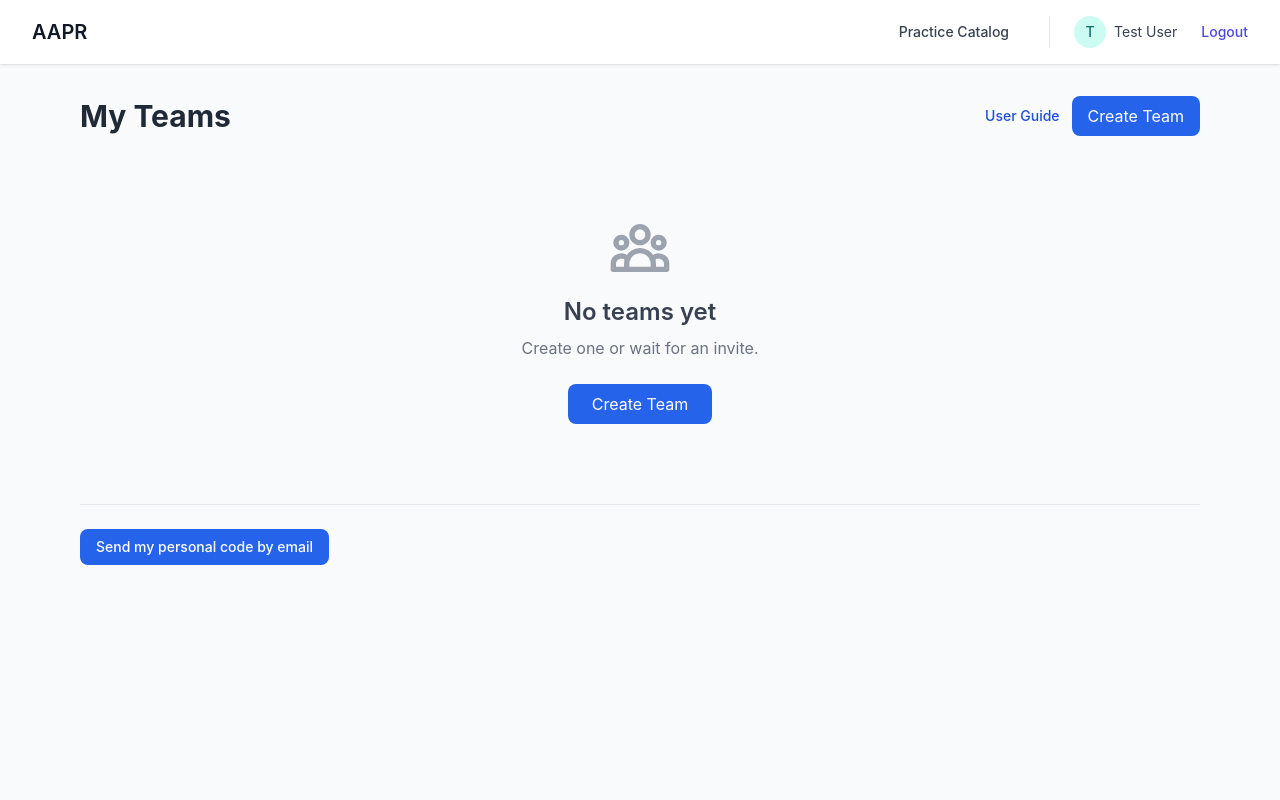
it: App auth flow integration › logout redirects to /login
The width and height of the screenshot is (1280, 800).
Click the button "Logout": (1225, 32) [1201, 22, 1248, 42]
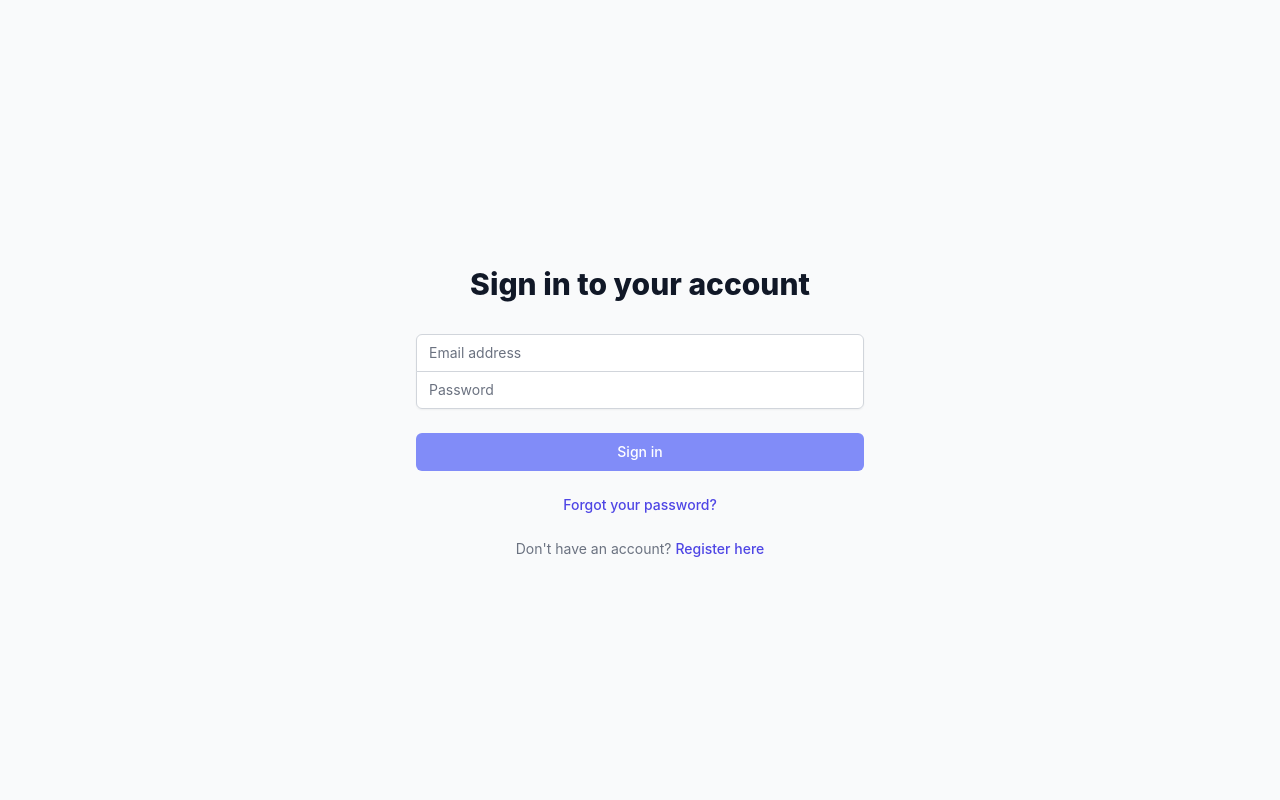
Check: the heading "Sign in to your account" is shown, box [470, 266, 810, 302]
